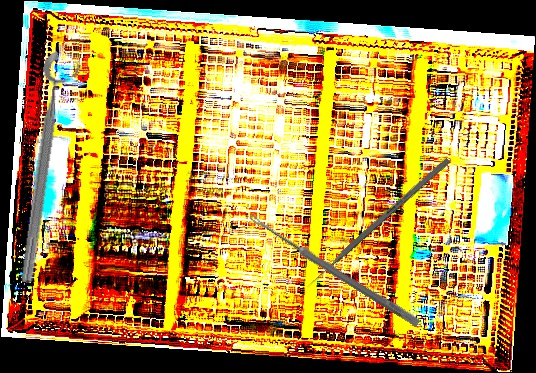Fixation Ring: (13, 49, 84, 287)
Pusher: (304, 156, 451, 291)
Surgical Spoon: (246, 212, 422, 328)
